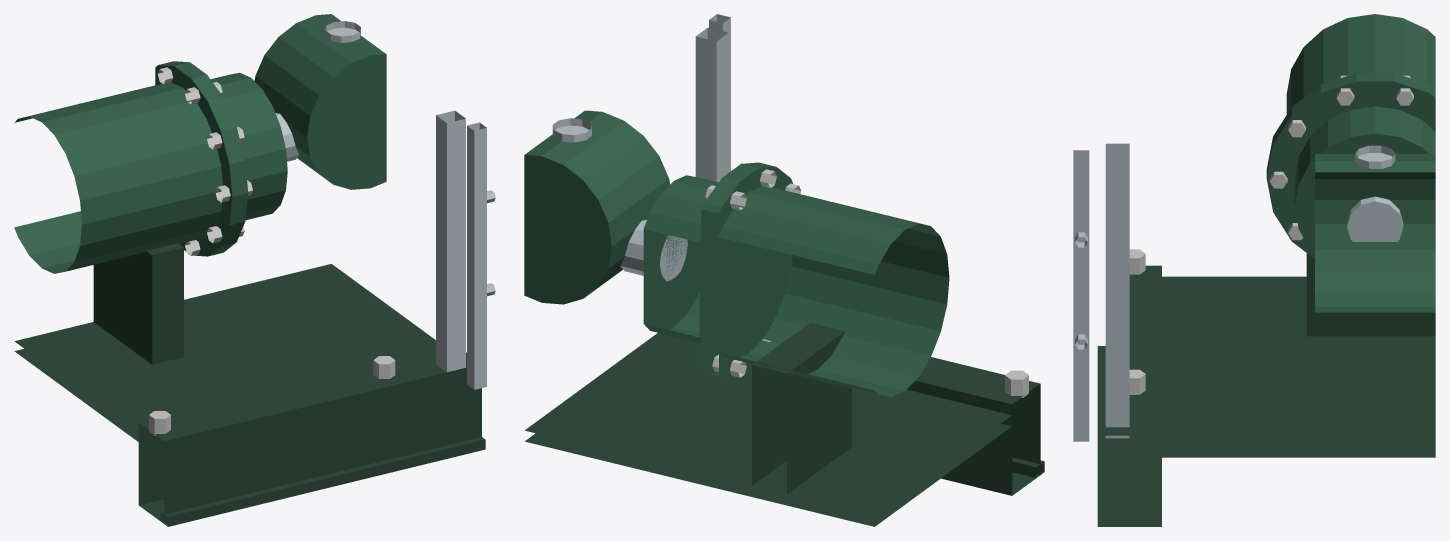
The model's file is cell_29.obj.
3 views of the same model, side by side, from view 1: azimuth 30°, elevation 25°; view 2: azimuth 150°, elevation 25°; view 3: azimuth 270°, elevation 25° (orthographic). The views are drawn at different scales.
Bounding box in the file's own units: 1 × 1 × 0.9.
